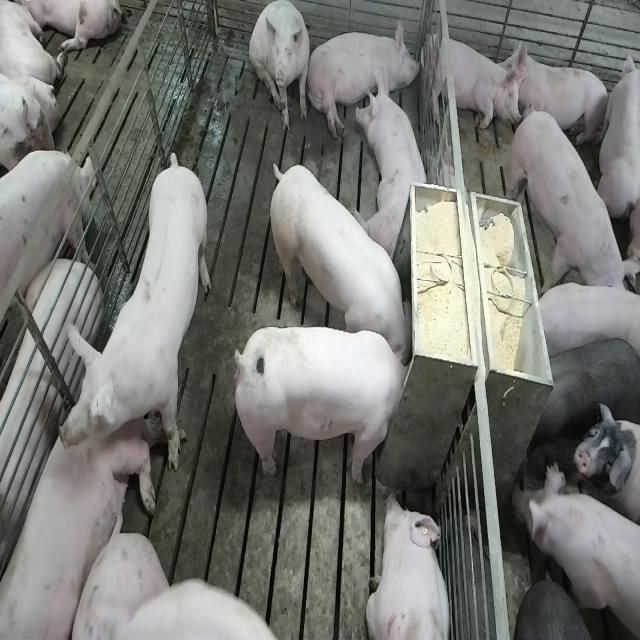Feeding: (265, 160, 411, 360), (229, 323, 410, 484)
Lateral_lying: (306, 17, 422, 141)
Sitting: (250, 1, 312, 134)
Standing: (58, 156, 212, 482), (509, 102, 632, 302), (513, 464, 638, 640), (0, 152, 94, 350), (528, 334, 639, 458), (528, 276, 639, 363)
Sternal_lying: (0, 372, 157, 640), (357, 71, 433, 259), (365, 489, 453, 640), (505, 38, 611, 152), (423, 32, 516, 134)
